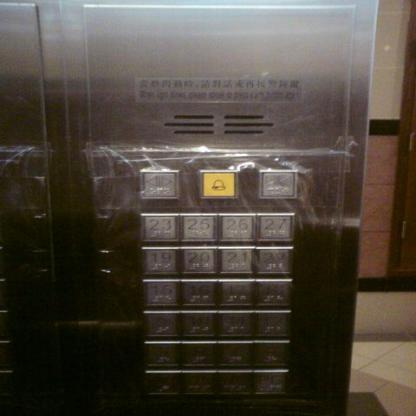11: (218, 309, 256, 336)
12: (256, 310, 291, 337)
15: (140, 278, 180, 306)
16: (180, 278, 218, 306)
17: (218, 278, 256, 306)
19: (140, 246, 178, 273)
20: (180, 246, 218, 274)
21: (219, 246, 256, 274)
22: (254, 246, 291, 272)
23: (138, 212, 180, 242)
25: (180, 211, 218, 242)
26: (218, 212, 256, 242)
27: (257, 212, 295, 241)
PG: (253, 370, 289, 397)
alarm: (197, 169, 238, 199)
blur: (257, 168, 297, 198), (252, 340, 290, 370), (140, 308, 180, 336), (142, 369, 181, 397), (142, 340, 180, 368), (256, 278, 292, 307), (181, 340, 217, 369), (180, 309, 218, 336), (182, 369, 218, 397), (218, 340, 252, 369), (218, 370, 253, 398)
open: (137, 169, 179, 200)
